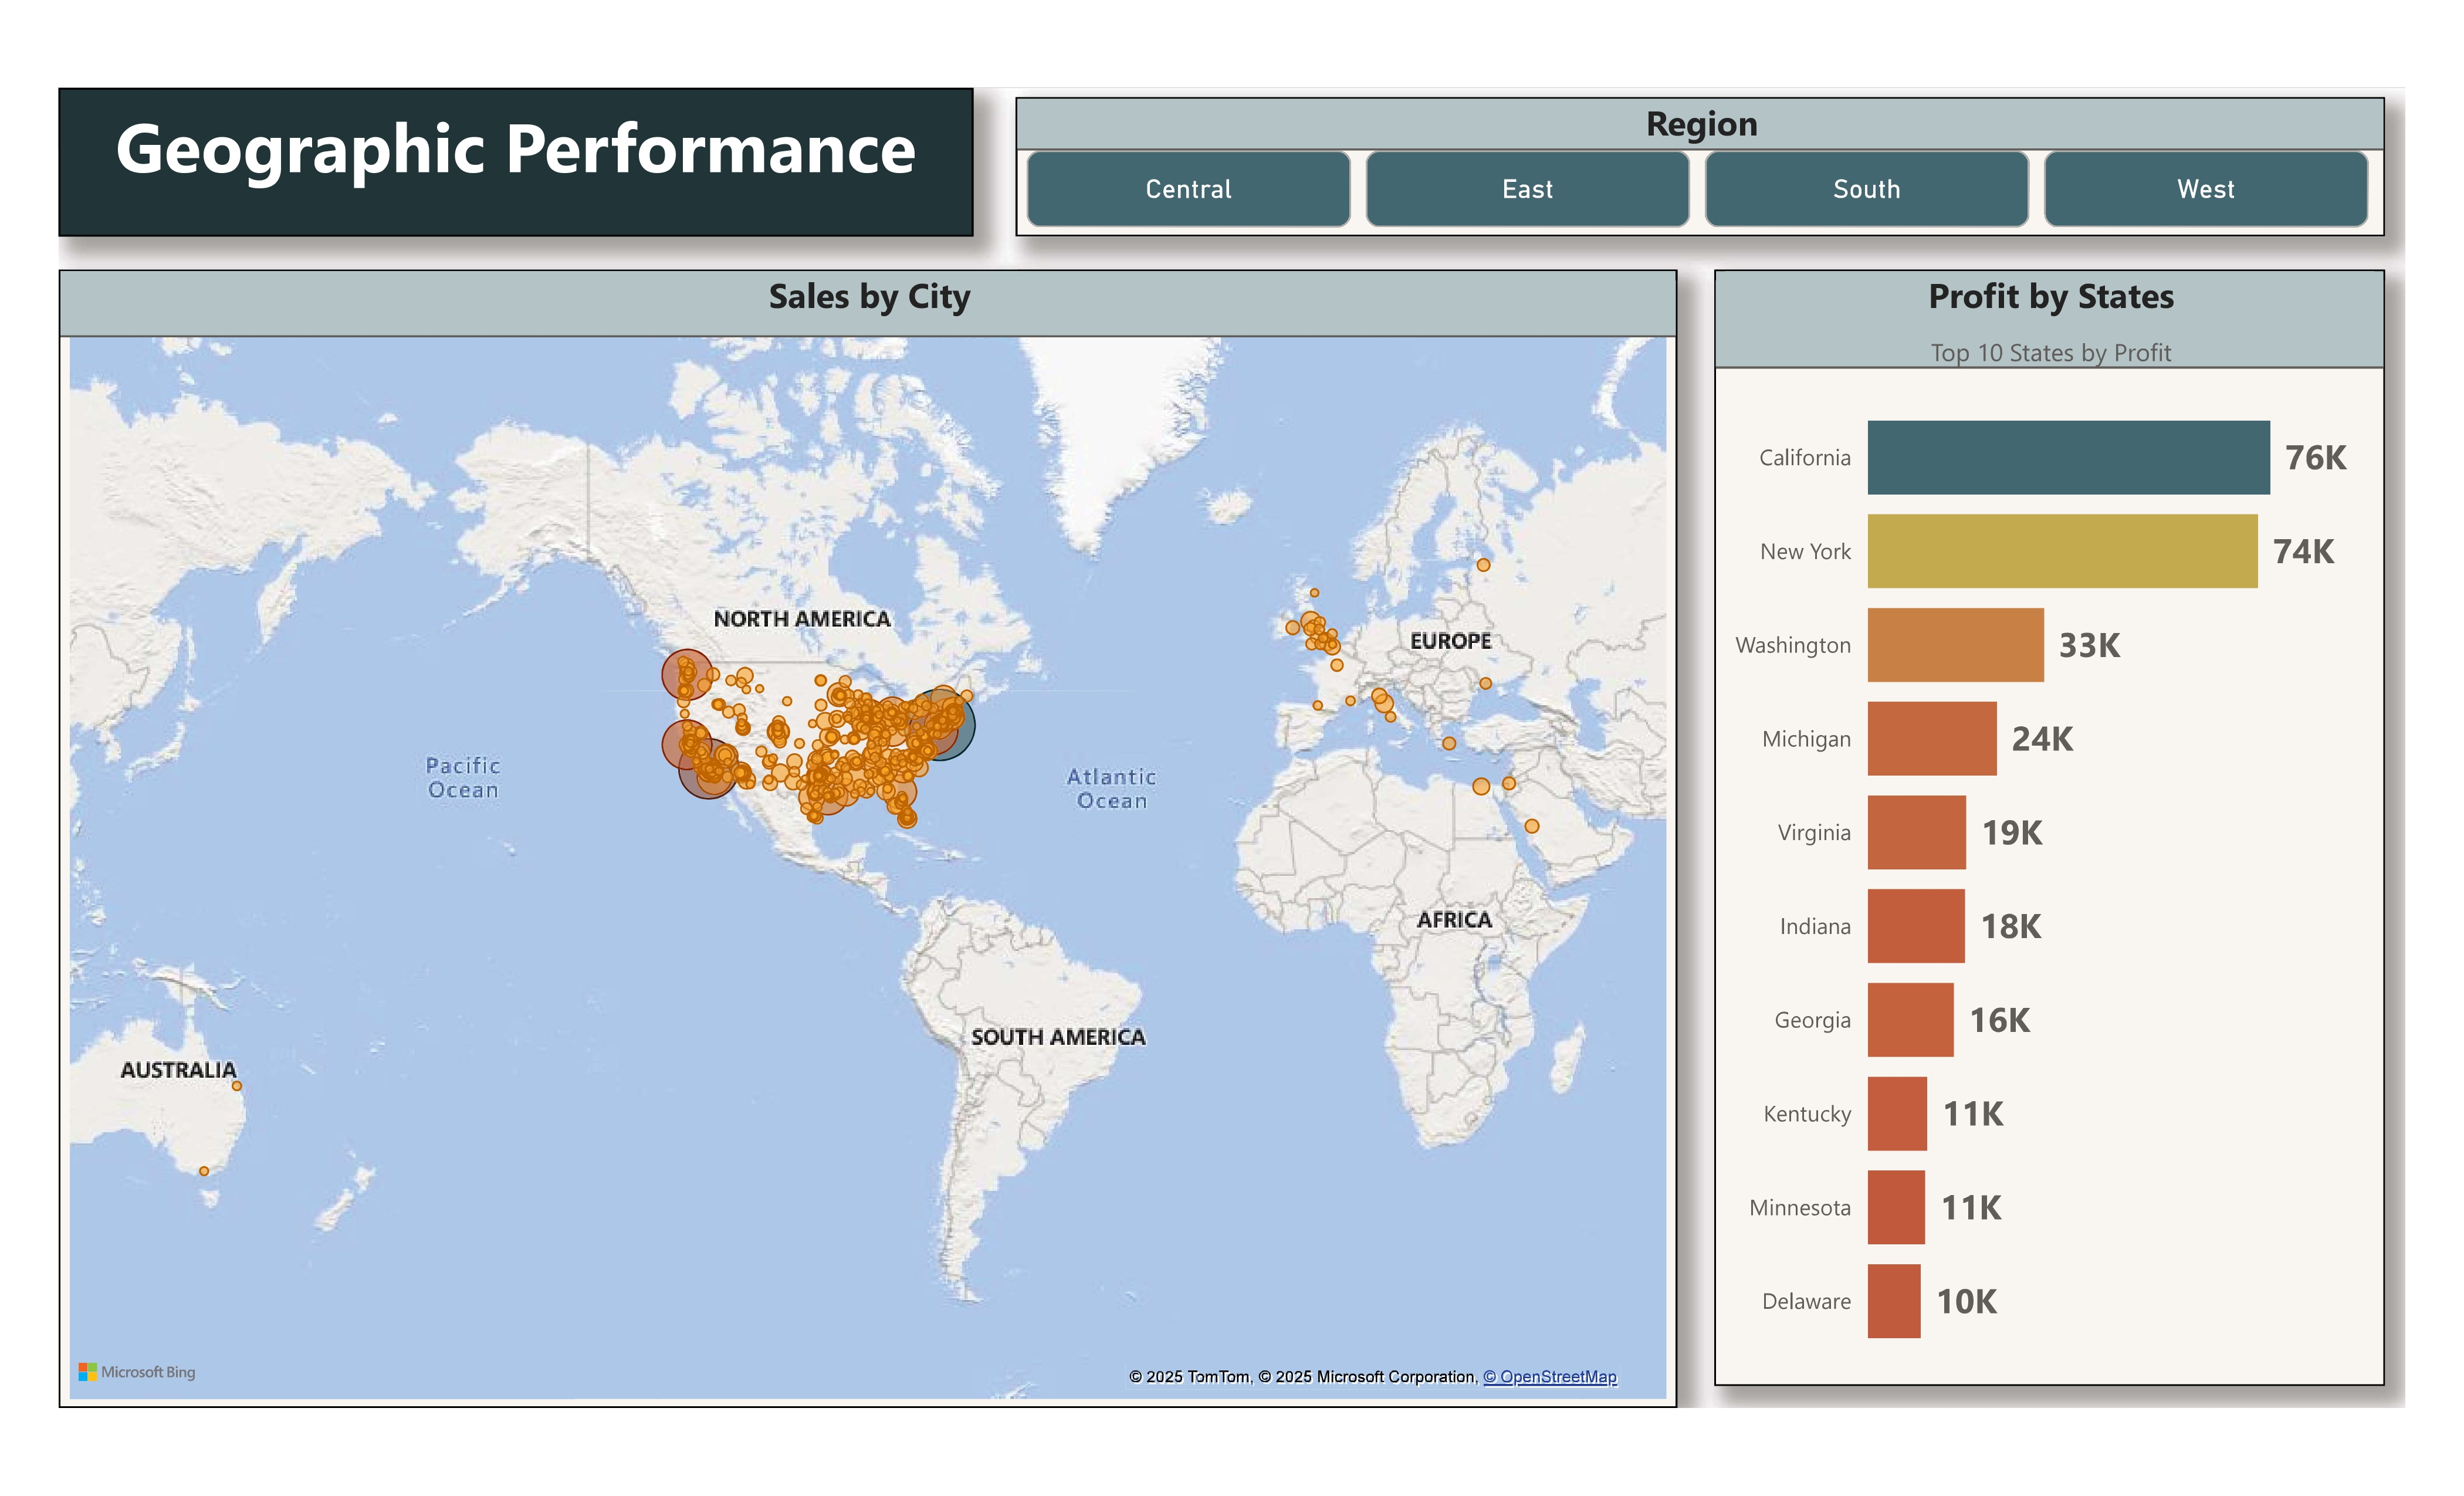

The dashboard page shown, as its layout file describes it:
{"tool":"powerbi","page":{"name":"Geographic Performance","canvas":[1280,720],"ordinal":3},"visuals":[{"type":"textbox","box":[0,0,499.3,81.3],"z":0},{"type":"map","title":"Sales by City","fields":{"Size":["Sum(Orders.Sales)"],"Category":["Orders.City"]},"box":[0,98.7,883.2,621.3],"z":1},{"type":"barChart","title":"Profit by States","fields":{"Y":["Sum(Orders.Profit)"],"Category":["Orders.State"]},"box":[902.7,99.2,366,608.3],"z":2},{"type":"advancedSlicerVisual","fields":{"Values":["Orders.Region"]},"box":[522.1,4.9,746.6,76.4],"z":3}]}

Visuals, with their boxes in screenshot pixels (x1, y1, x2, y2):
textbox: [left=52, top=77, right=966, bottom=226]
"Sales by City" map: [left=52, top=258, right=1668, bottom=1395]
"Profit by States" barChart: [left=1704, top=259, right=2374, bottom=1372]
advancedSlicerVisual - Orders.Region: [left=1007, top=86, right=2374, bottom=226]
